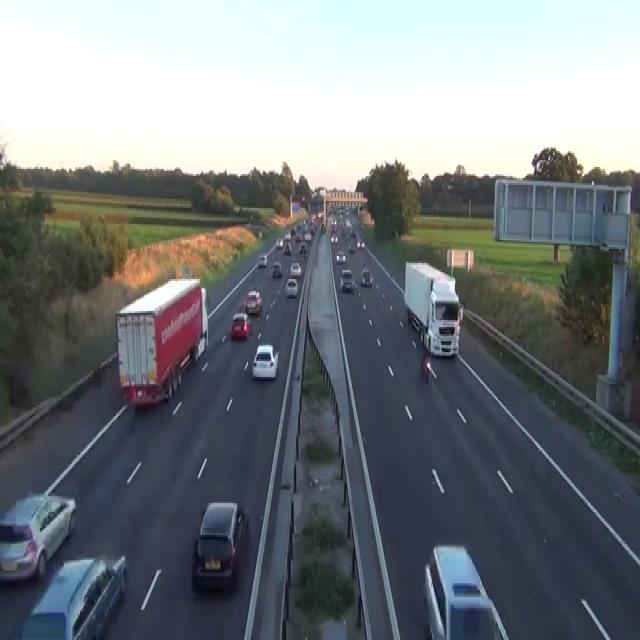Car: (280, 494, 365, 638), (18, 553, 127, 638), (423, 544, 510, 638), (0, 491, 76, 583), (192, 500, 248, 592), (251, 343, 278, 379), (229, 311, 251, 340), (244, 290, 262, 314), (339, 268, 354, 290), (284, 277, 298, 297), (360, 267, 372, 286), (289, 262, 301, 278), (272, 260, 282, 278), (335, 249, 346, 263), (258, 252, 267, 266), (283, 240, 292, 254), (237, 299, 246, 311), (356, 238, 365, 249), (299, 242, 307, 254), (276, 236, 283, 249), (459, 302, 464, 320), (303, 231, 311, 242), (330, 233, 338, 243), (330, 219, 337, 229), (284, 231, 291, 240), (348, 242, 355, 250), (295, 233, 301, 242), (350, 228, 356, 236), (317, 210, 323, 218), (309, 226, 315, 234), (356, 240, 361, 249), (258, 230, 262, 238), (291, 228, 295, 235), (361, 240, 365, 247)
Truck: (115, 275, 208, 409), (403, 260, 463, 358)
